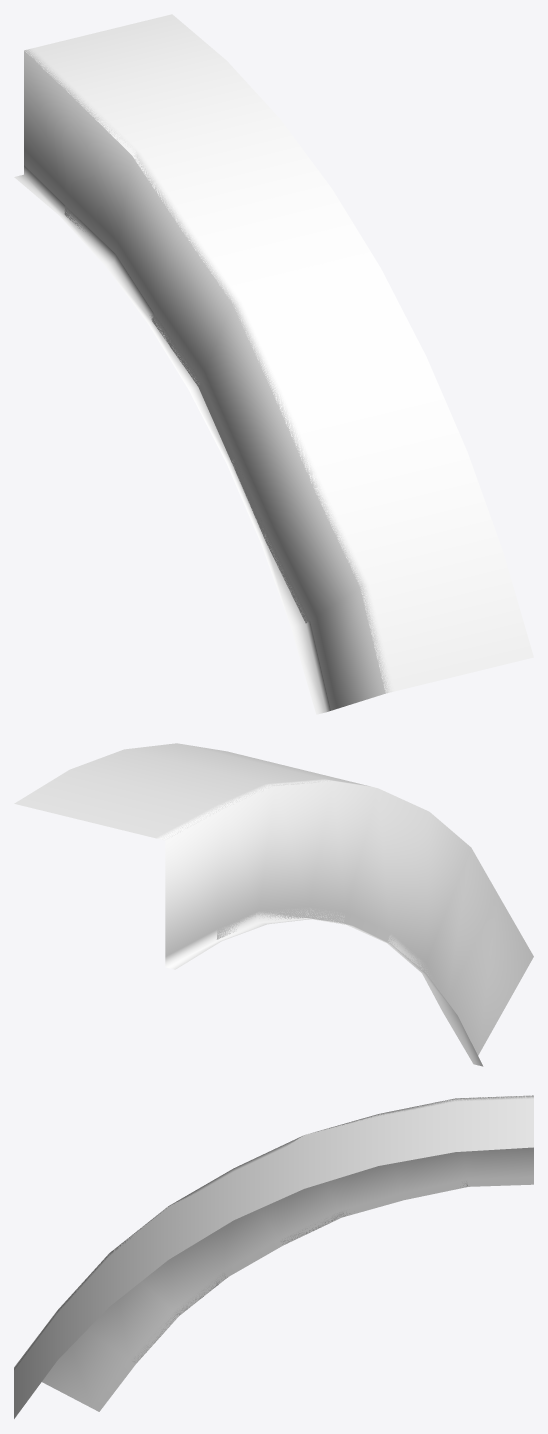
Rendered from grd_Ee_0.dae.
3 renders of one model, top to bottom at view 1: azimuth 30°, elevation 25°; view 2: azimuth 150°, elevation 25°; view 3: azimuth 270°, elevation 25°, orthographic. The views are drawn at different scales.
Parts seen in each view (by area): view 1: grd_Ee_0; view 2: grd_Ee_0; view 3: grd_Ee_0.
Boxes of the visible parts, x1=… form: grd_Ee_0: x1=14, y1=14, x2=533, y2=714; grd_Ee_0: x1=14, y1=743, x2=533, y2=1066; grd_Ee_0: x1=14, y1=1095, x2=533, y2=1418.
Bounding box in the file's own units: 128 × 340 × 507.
Materials: 2 (1 with a texture image).
